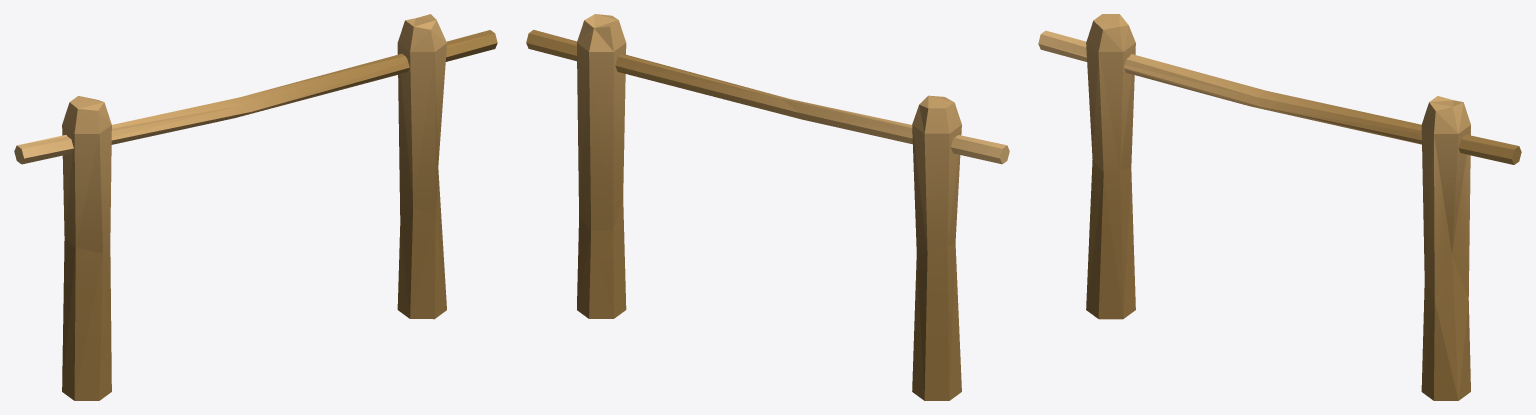
Rendered from HangingRod.gltf.
3 renders of one model, left to right at view 1: azimuth 30°, elevation 25°; view 2: azimuth 150°, elevation 25°; view 3: azimuth 330°, elevation 25°, orthographic.
Parts seen in each view (by area): view 1: HangingRod; view 2: HangingRod; view 3: HangingRod.
Boxes of the visible parts, box(x1,y1,x2,y2) form: HangingRod: box(14, 14, 497, 400); HangingRod: box(526, 14, 1009, 400); HangingRod: box(1038, 14, 1521, 400).
Bounding box in the file's own units: 2.05 × 1.2 × 0.1867.
1 material, 1 textured.
